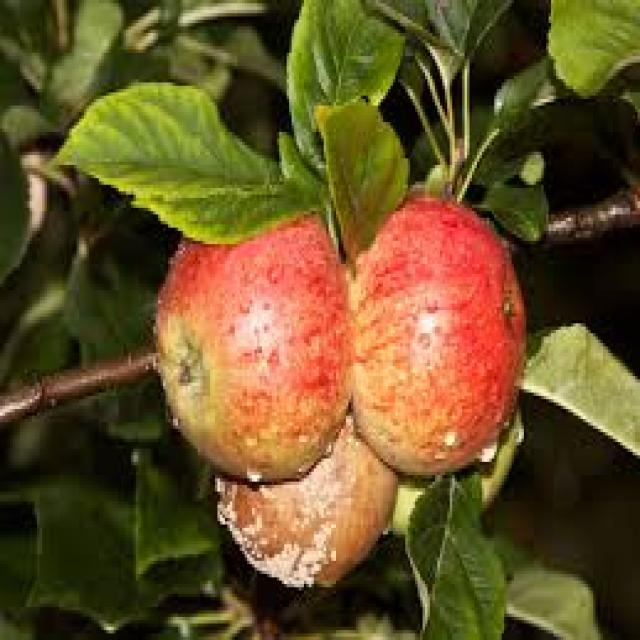Red Apple: (162, 227, 350, 478), (351, 198, 520, 464)
Rotten Apple: (207, 437, 399, 591)
